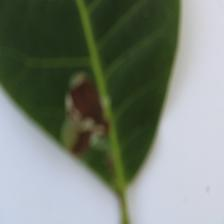leaf miner: (60, 71, 113, 161)
